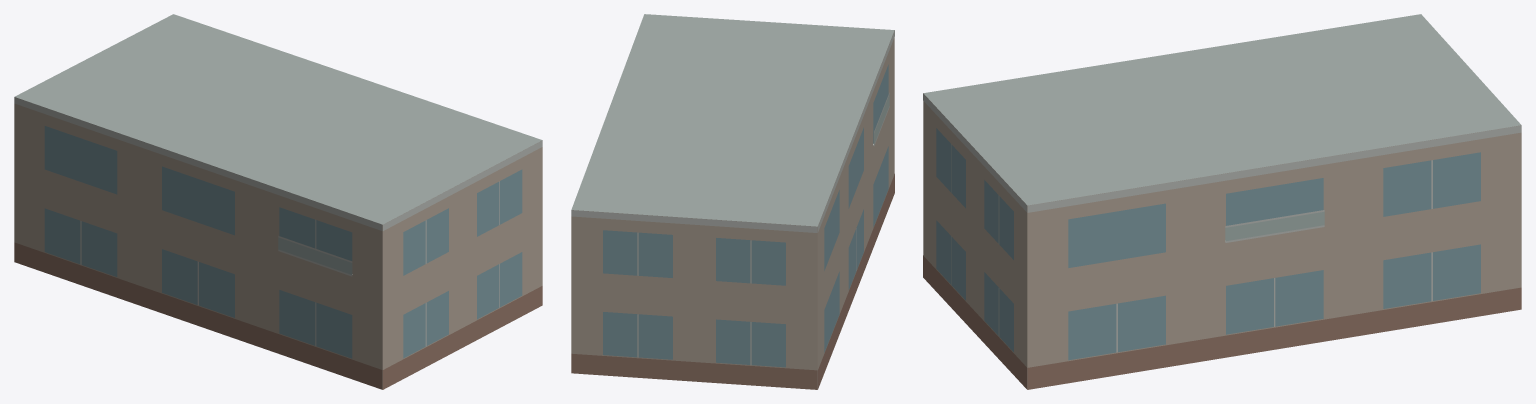
The model's file is survey-upis-32834179.glb.
The picture shows the model from 3 angles, left to right: view 1: azimuth 30°, elevation 25°; view 2: azimuth 150°, elevation 25°; view 3: azimuth 270°, elevation 25°; orthographic projection. The views are drawn at different scales.
Visible parts, largest first — view 1: survey-upis-32834179.tmp; view 2: survey-upis-32834179.tmp; view 3: survey-upis-32834179.tmp.
Part boxes in pixels (x1=…): survey-upis-32834179.tmp: x1=14, y1=14, x2=542, y2=389; survey-upis-32834179.tmp: x1=571, y1=14, x2=894, y2=389; survey-upis-32834179.tmp: x1=923, y1=14, x2=1521, y2=389.
Bounding box in the file's own units: 13.61 × 6.1 × 17.96.
